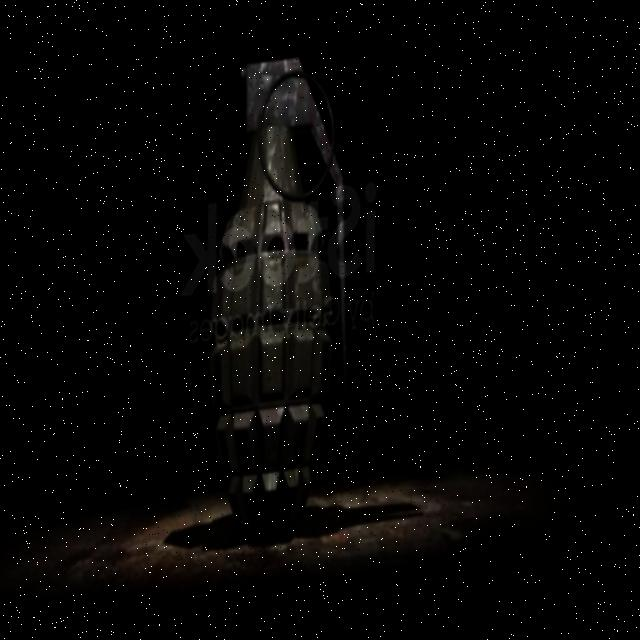grenade: (95, 22, 460, 587)
